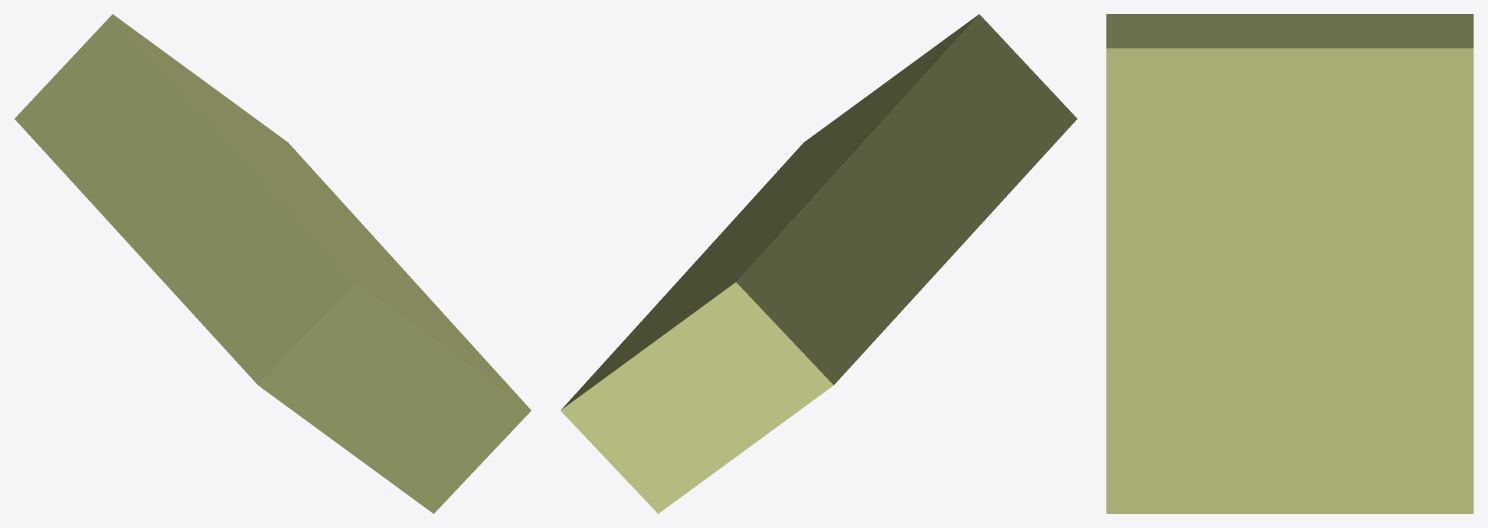
3 views of the same model, side by side, from view 1: azimuth 30°, elevation 25°; view 2: azimuth 150°, elevation 25°; view 3: azimuth 270°, elevation 25° (orthographic). The views are drawn at different scales.
Parts seen in each view (by area): view 1: 0_1_2_3_0_0_0_3_1_0; view 2: 0_1_2_3_0_0_0_3_1_0; view 3: 0_1_2_3_0_0_0_3_1_0.
Part boxes in pixels (<box>): 0_1_2_3_0_0_0_3_1_0: <box>14,14,531,513</box>; 0_1_2_3_0_0_0_3_1_0: <box>560,14,1077,513</box>; 0_1_2_3_0_0_0_3_1_0: <box>1106,14,1473,513</box>.
Size of the model in its own units: 10.1 by 11.5 by 9.
